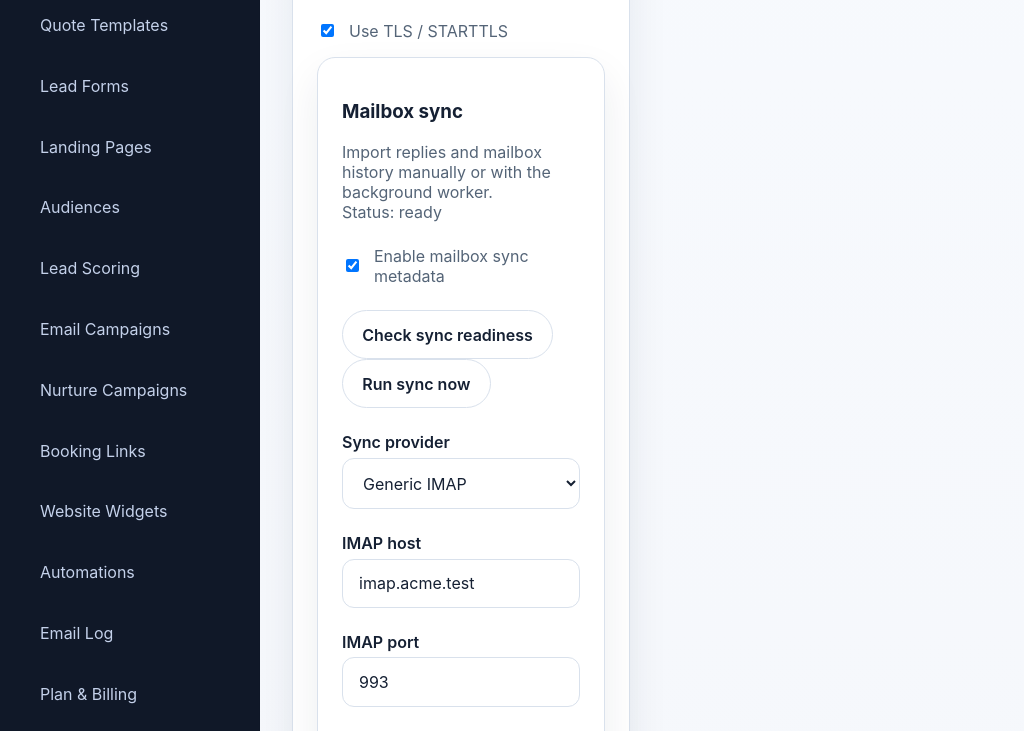
Test: settings email account route › runs manual mailbox sync for a saved account
(page scrolled)
Click the button "Run sync now".
click(416, 384)  # box top-left (342, 359), bottom-right (490, 408)
(page scrolled)
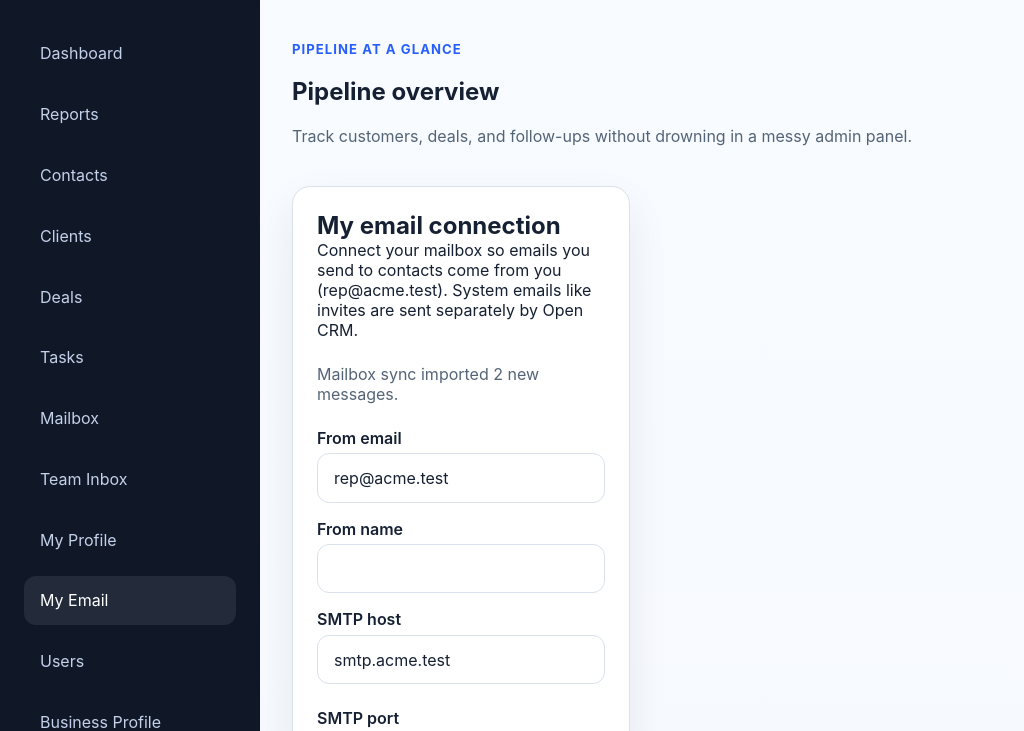
Expected: the text "Mailbox sync imported 2 new messages." is shown, top-left (317, 364), bottom-right (539, 404)
